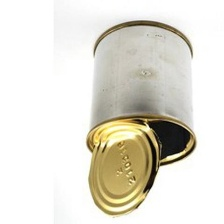can: (68, 16, 201, 221)
